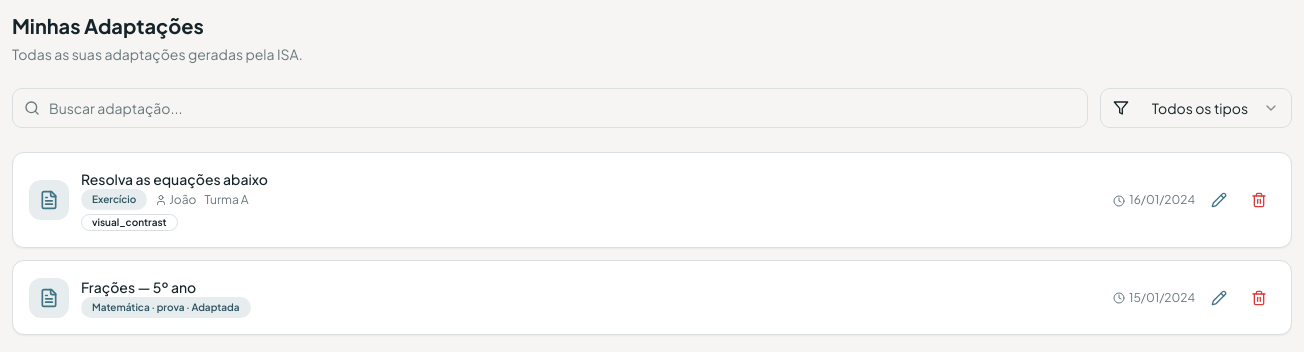
Scenario: MyAdaptations Page › filters by search term
Check: the text "Frações — 5º ano" is shown, box [81, 278, 196, 296]
Type "Frações" into the field with placeholder "Buscar adaptação..." at point(550, 108), box [12, 88, 1088, 128]
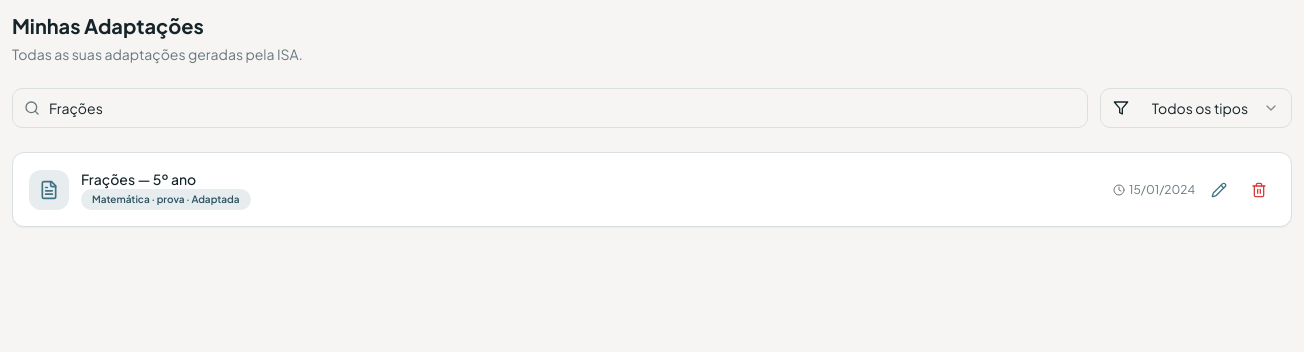
Check: the text "Frações — 5º ano" is shown, box [81, 170, 196, 188]
Check: the text "Resolva as equações abaixo" is gone
